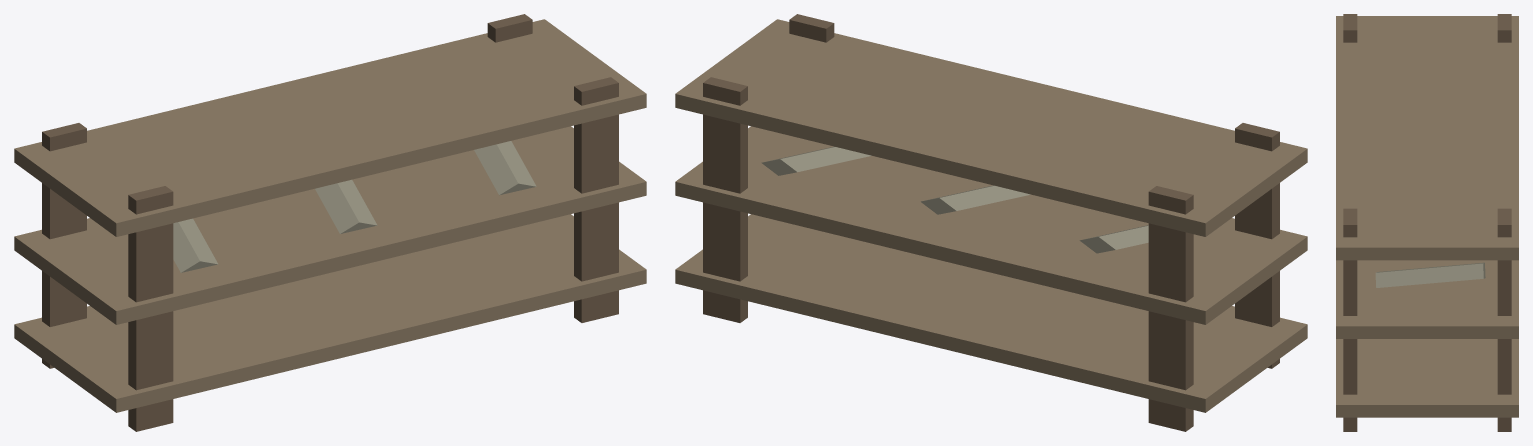
The model's file is herb_rack.glb.
3 views of the same model, side by side, from view 1: azimuth 30°, elevation 25°; view 2: azimuth 150°, elevation 25°; view 3: azimuth 270°, elevation 25° (orthographic). The views are drawn at different scales.
Visible parts, largest first — view 1: herb_rack; view 2: herb_rack; view 3: herb_rack.
Part boxes in pixels (x1=…): herb_rack: x1=14, y1=14, x2=646, y2=431; herb_rack: x1=675, y1=14, x2=1307, y2=431; herb_rack: x1=1336, y1=14, x2=1518, y2=431.
Bounding box in the file's own units: 2.88 × 1.2 × 0.96.
